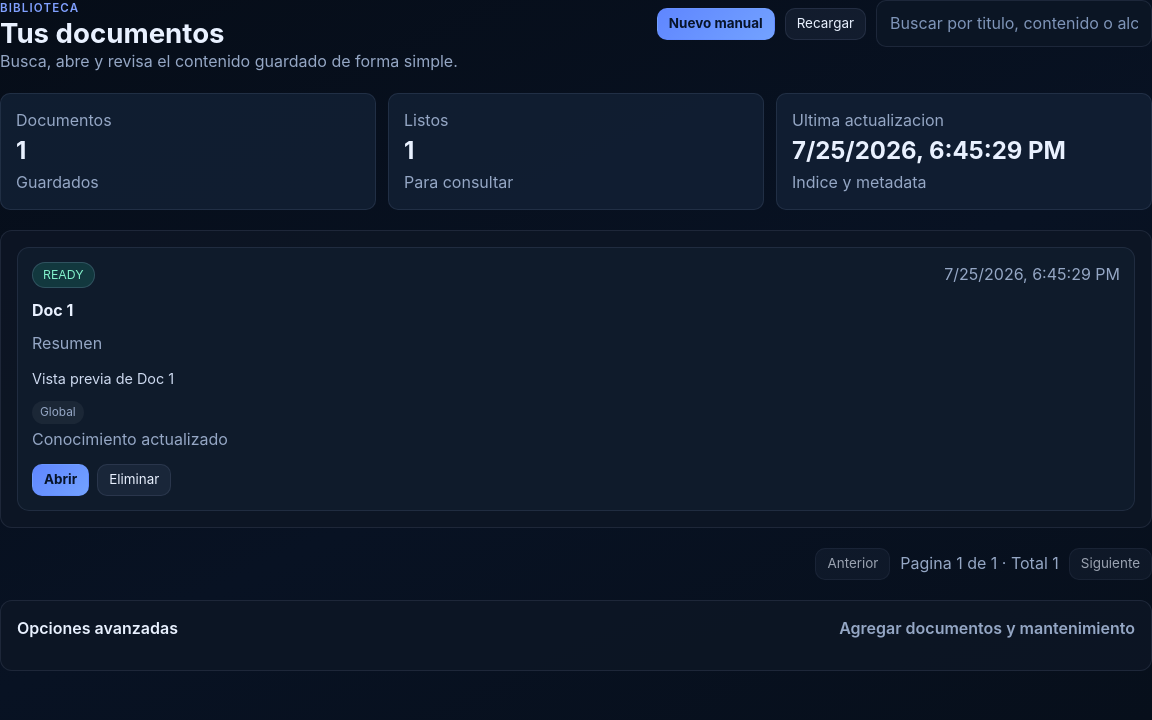
Test: DocumentsPage › creates a manual document with existing tenant/library suggestions
The width and height of the screenshot is (1152, 720).
Expected: the heading "Doc 1" is shown, [32,300,74,320]
Step 1. Click the button "Nuevo manual" → coordinates (716, 24), box [657,8,775,40]
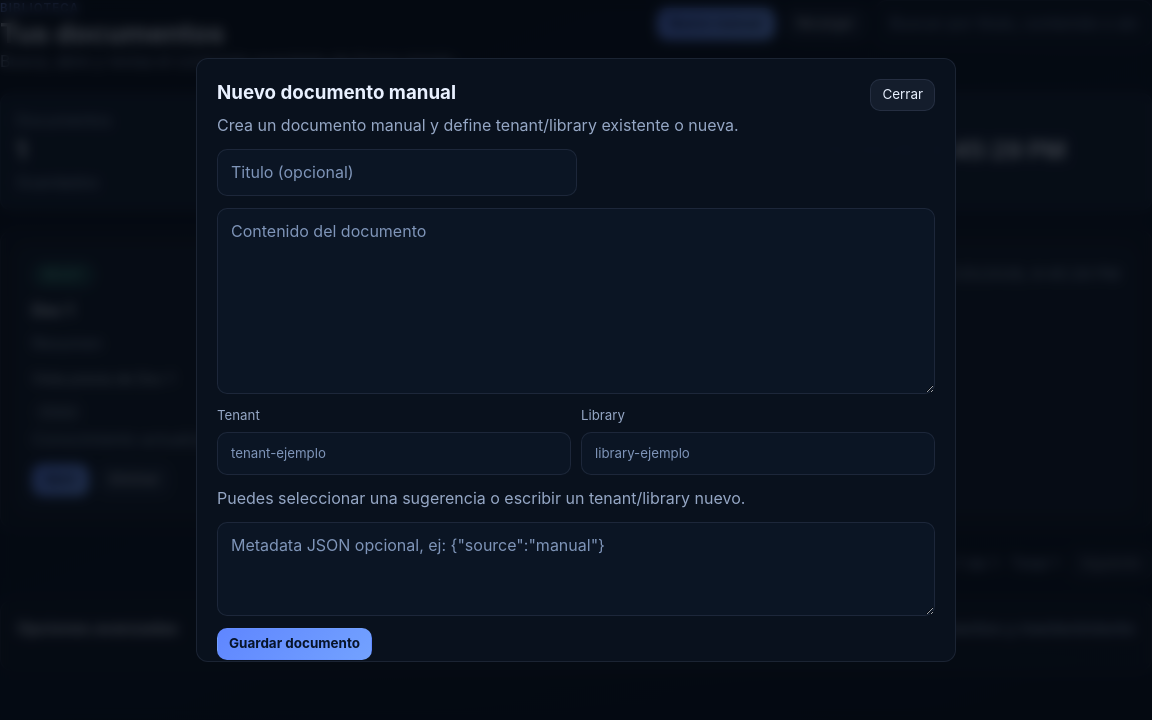
Expected: the dialog named "Nuevo manual" is shown, [196,58,956,662]
Step 2. Type "Created from UI" into the field with placeholder "Titulo (opcional)" → coordinates (397, 172), box [217,149,577,196]
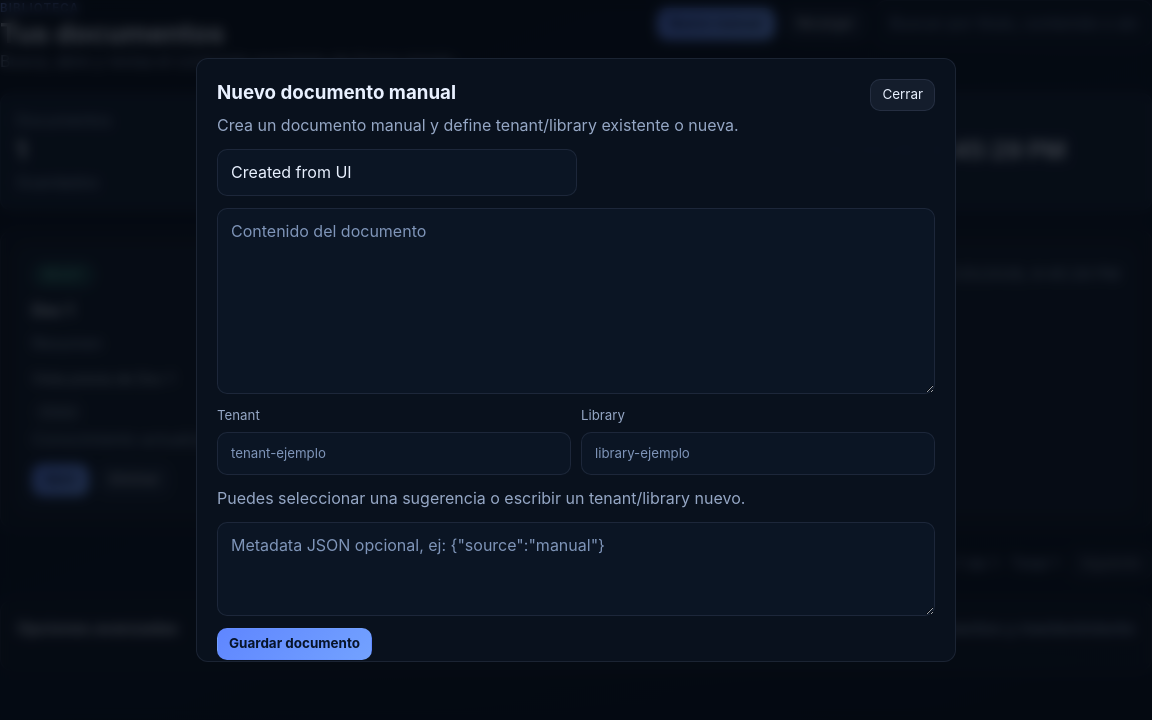
Step 3. Type "Some raw text" into the text box with placeholder "Contenido del documento" → coordinates (576, 301), box [217,208,935,394]
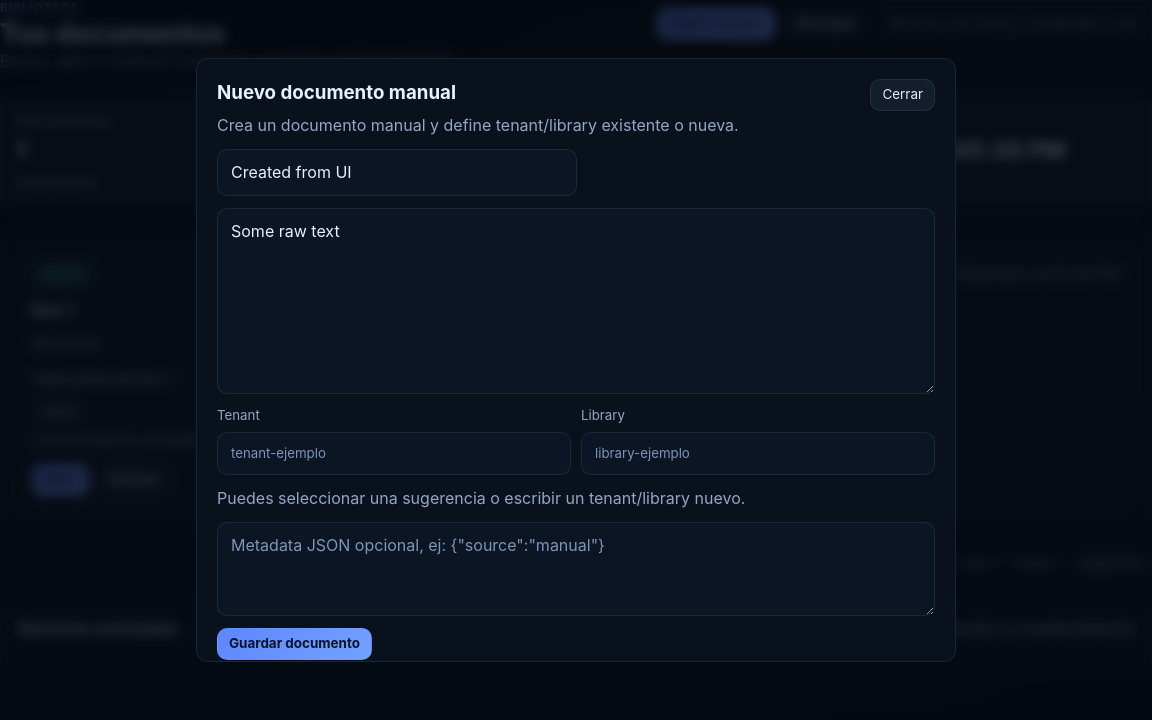
Step 4. Type "tenant-a" into the field with placeholder "tenant-ejemplo" → coordinates (394, 453), box [217,432,571,475]
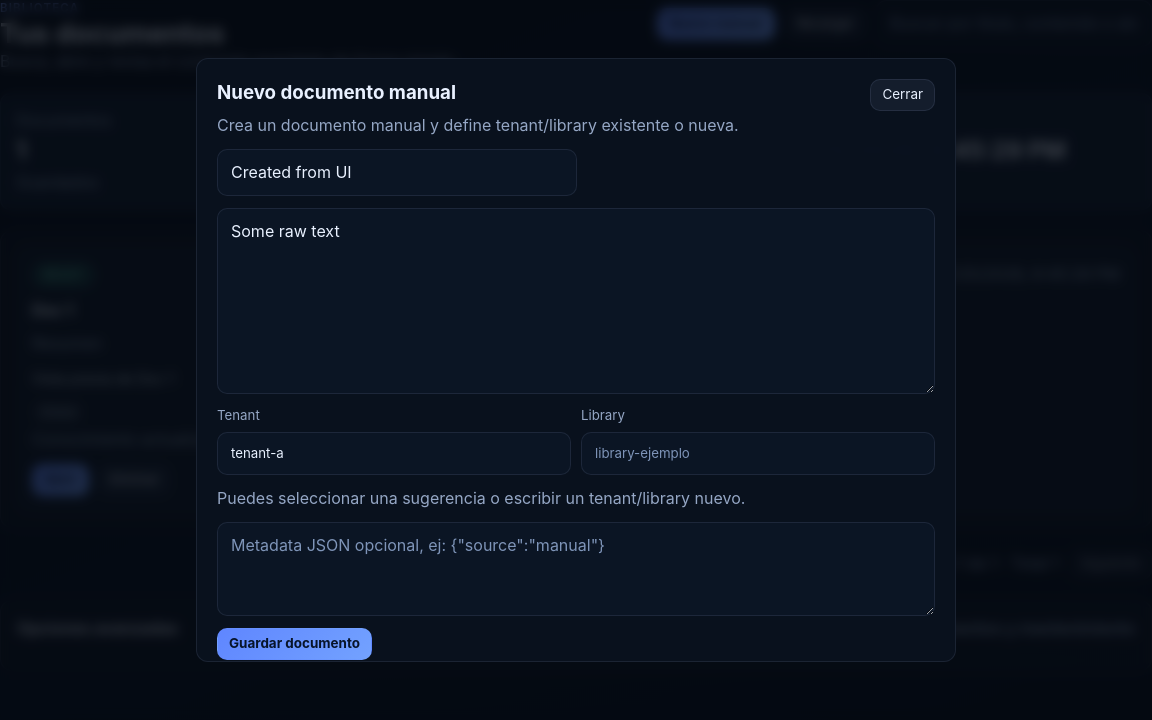
Step 5. Type "lib-a" into the field with placeholder "library-ejemplo" → coordinates (758, 453), box [581,432,935,475]
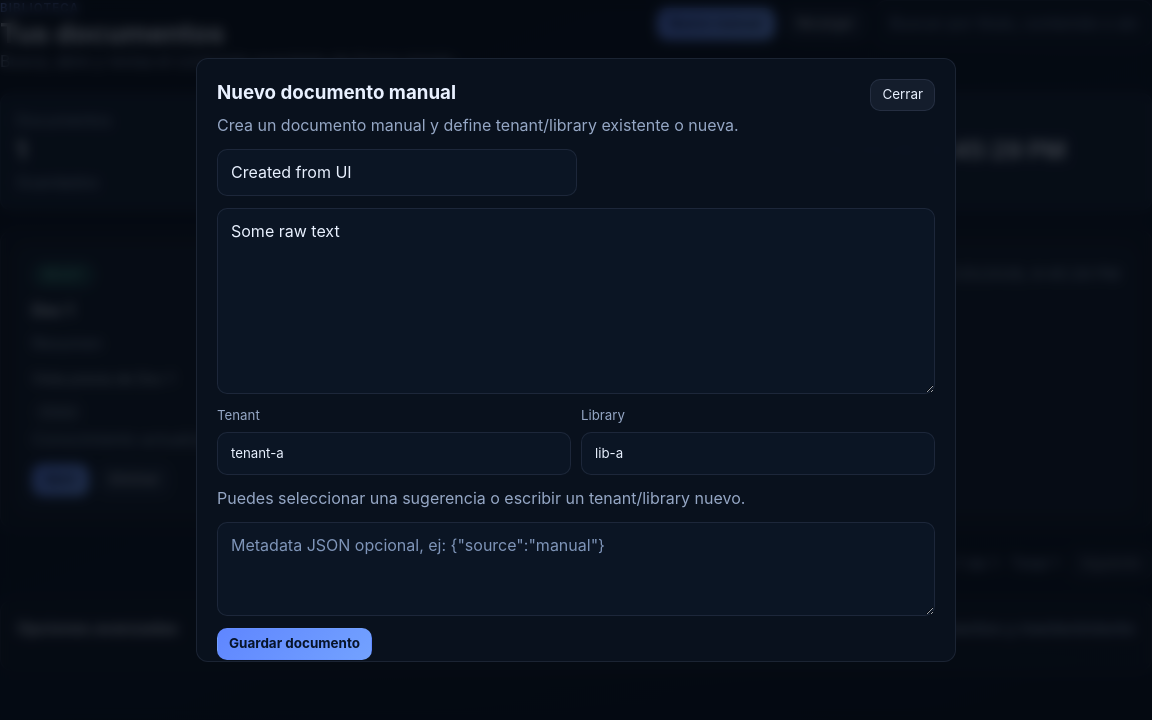
Step 6. Click the button "Guardar documento" → coordinates (294, 644), box [217,628,372,660]
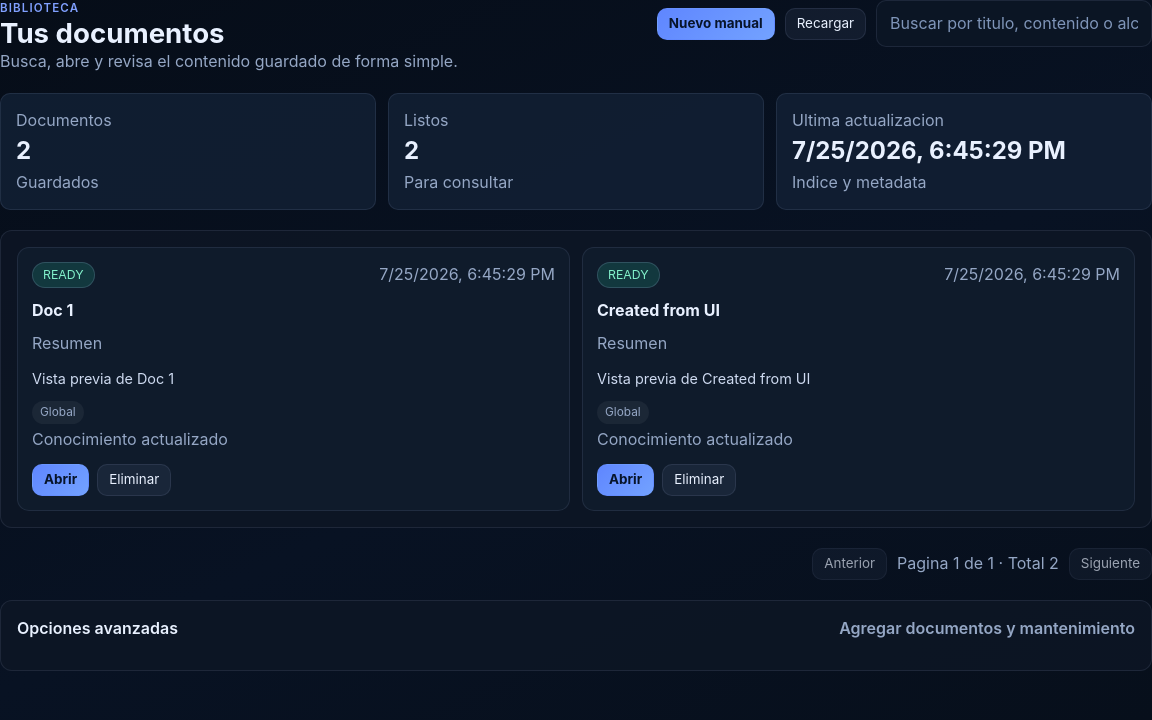
Expected: the heading "Created from UI" is shown, [597,300,720,320]
